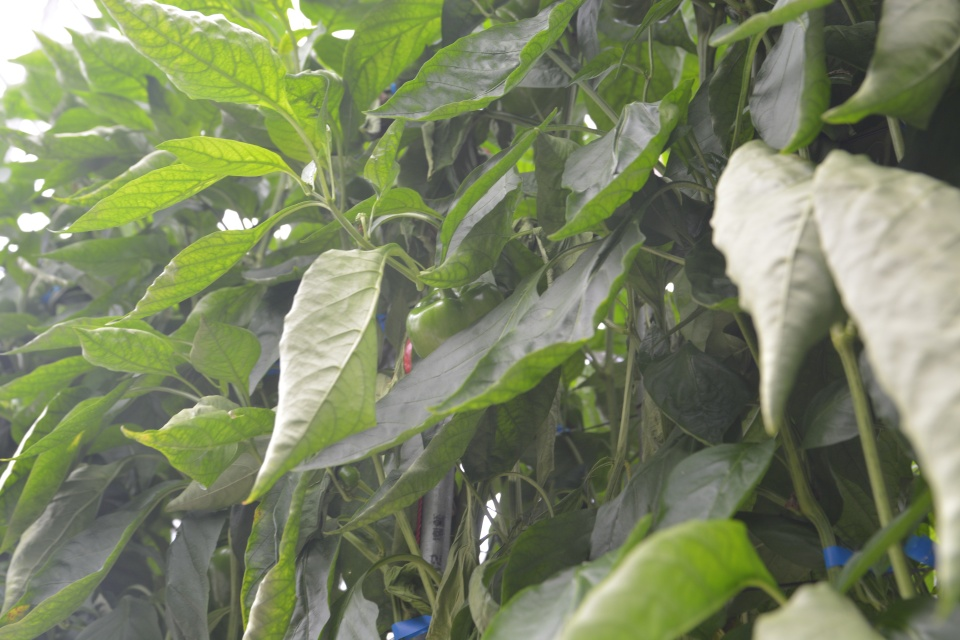fruit: (404, 280, 506, 360), (207, 545, 242, 609)
immature: (336, 464, 361, 492)
